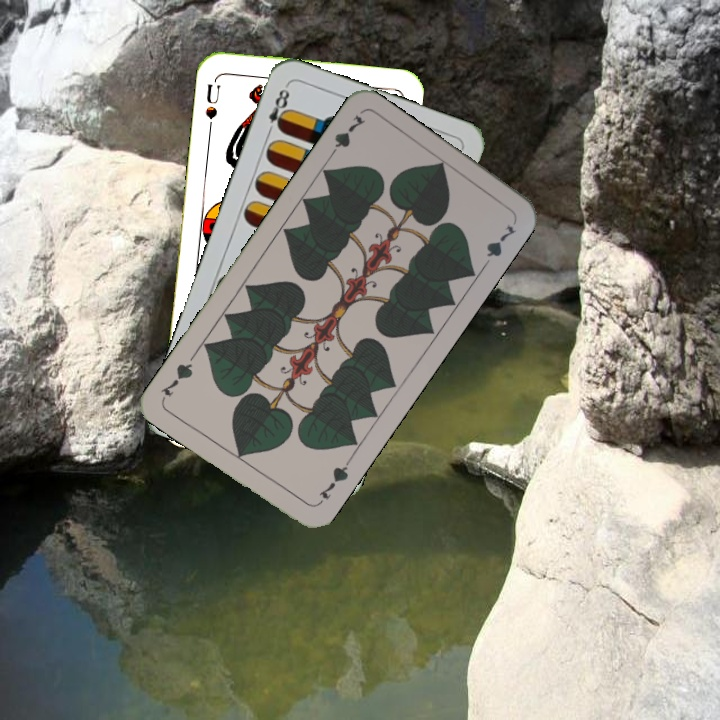E8: (262, 84, 292, 139)
G7: (324, 111, 368, 162), (313, 456, 353, 508)
SU: (201, 74, 223, 134)
